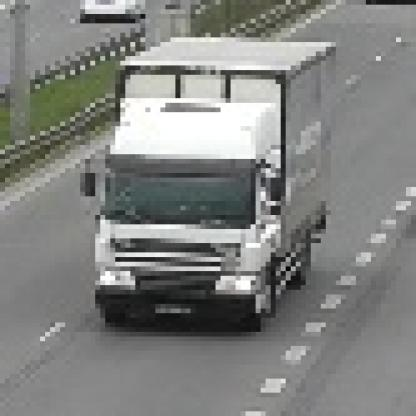truck: (76, 29, 332, 328)
